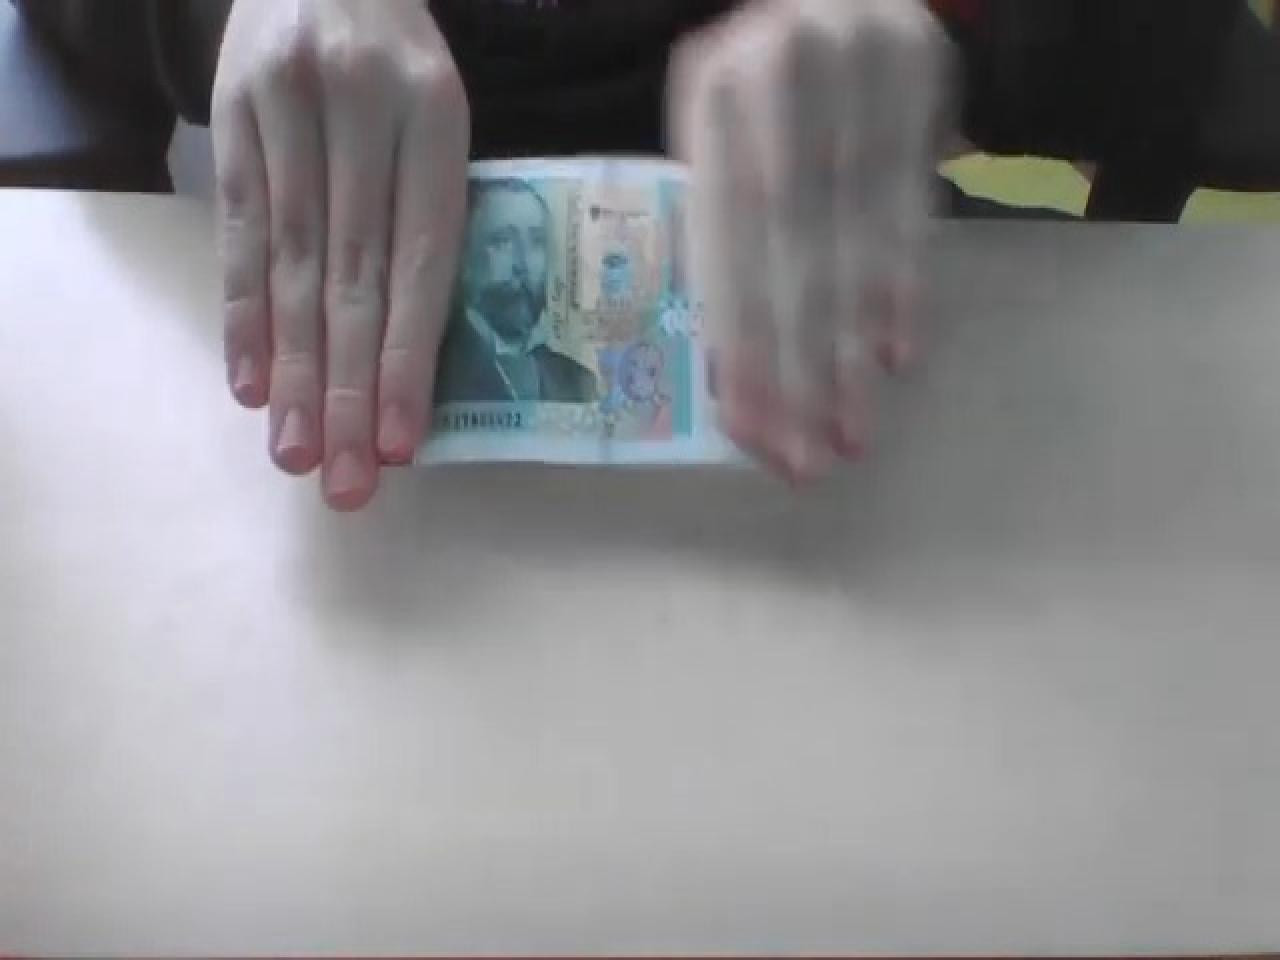100leva: (418, 152, 703, 456), (432, 168, 600, 408)
